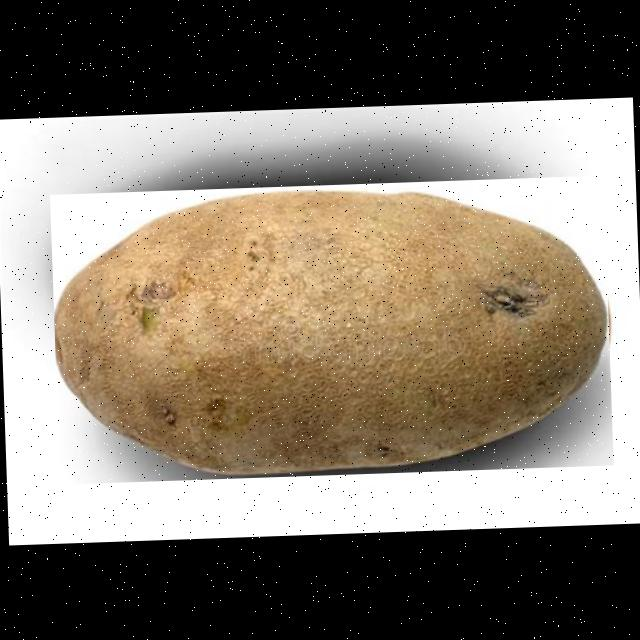Diseased-fungal potato: (48, 174, 612, 483)
